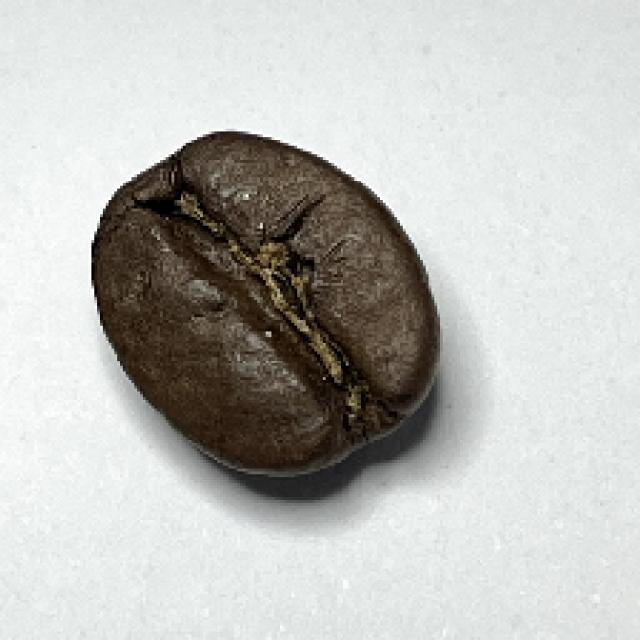bean: (83, 126, 442, 477)
